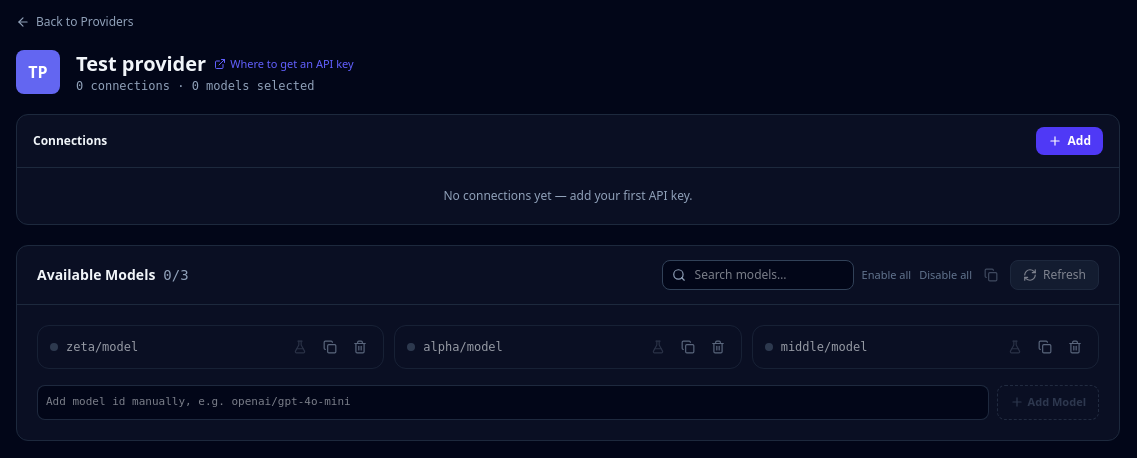
Scenario: ProviderDetailPage: copy enabled model IDs › follows Enable all and Disable all without changing provider order
This screenshot has width=1137, height=458.
Step 1. Click the button "Enable all" → (886,275), box [862,267,911,283]
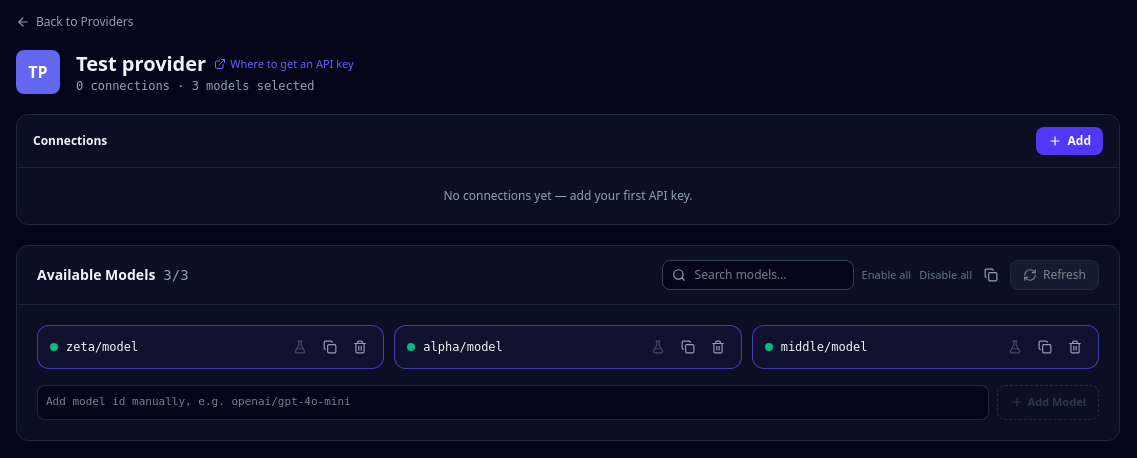
Step 2. Click the button named "Copy enabled IDs" → (991,275), box [980,264,1002,286]
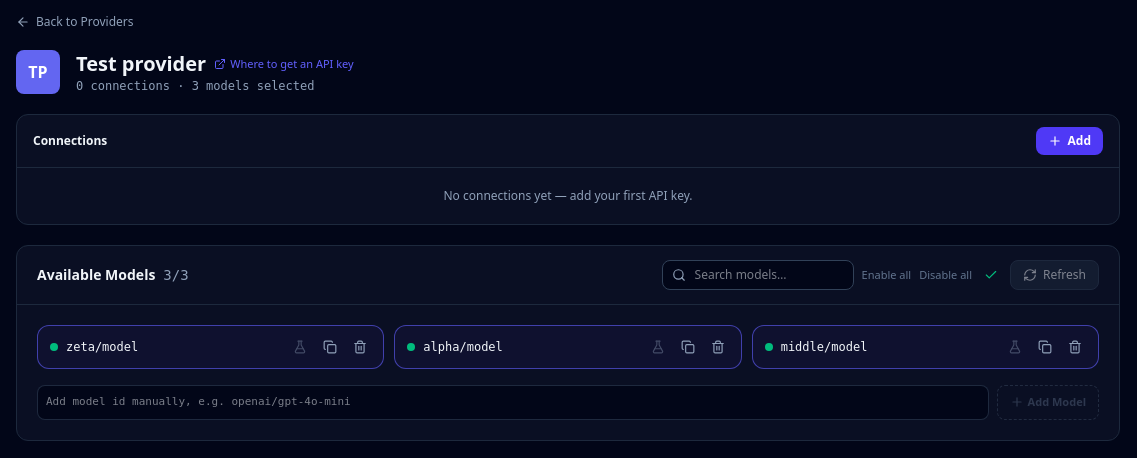
Step 3. Click the button "Disable all" → (946,275), box [919,267,972,283]
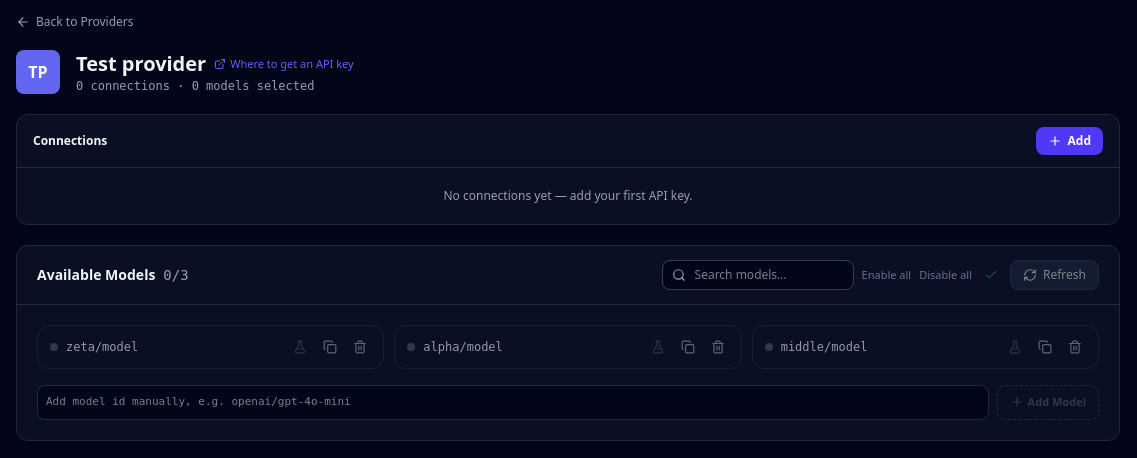
expect the button named "IDs copied!" is disabled: met, box [980,264,1002,286]
